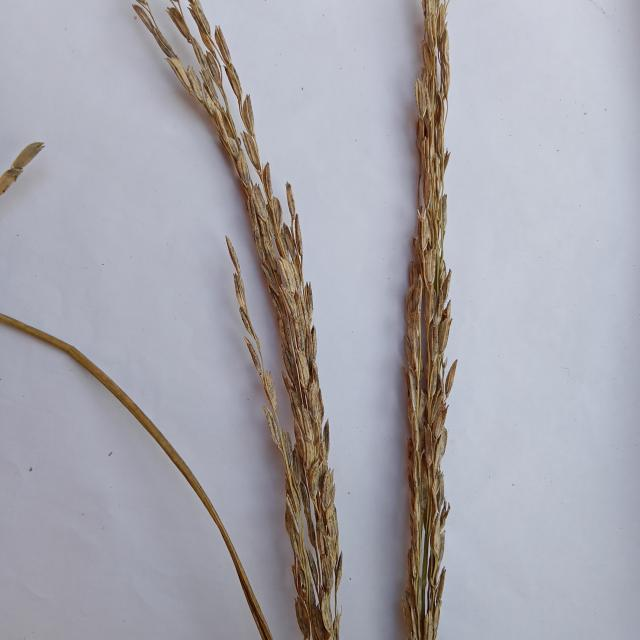Neck_Blast: (210, 101, 339, 639), (408, 10, 450, 639)
